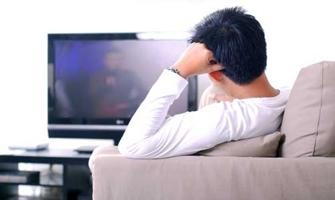person without safety: (171, 5, 283, 134)
